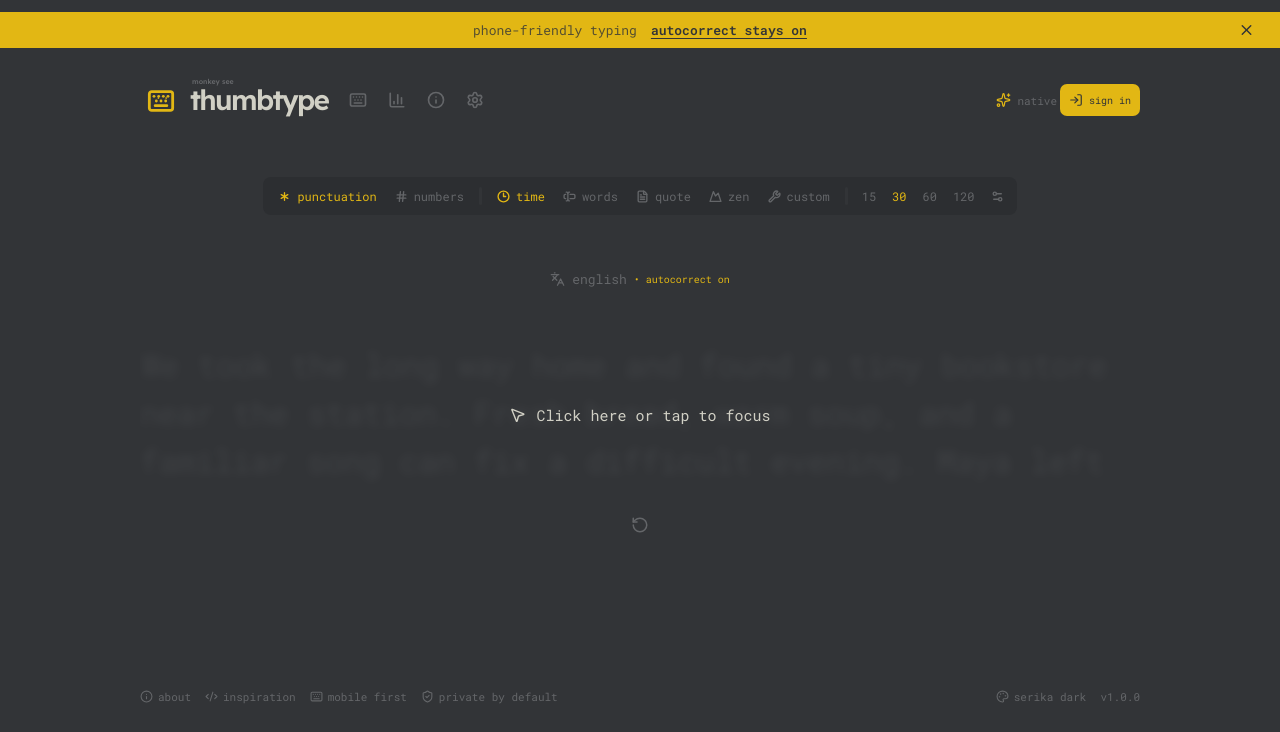
Test: React app › opens a first-class progress view
Click the button named "Your progress".
click(397, 100)  # box [379, 82, 415, 118]
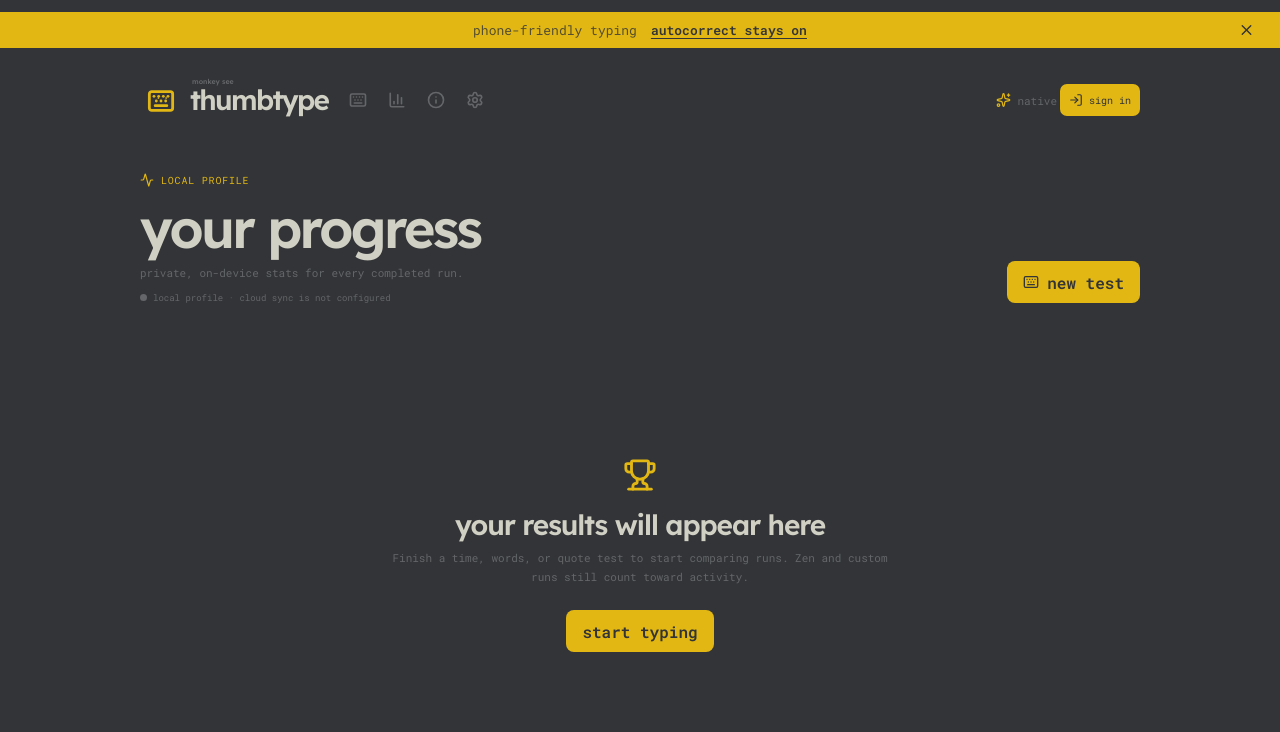
Expected: the heading "your progress" is shown, [140, 199, 480, 257]
Expected: the heading "your results will appear here" is shown, [455, 510, 825, 541]
